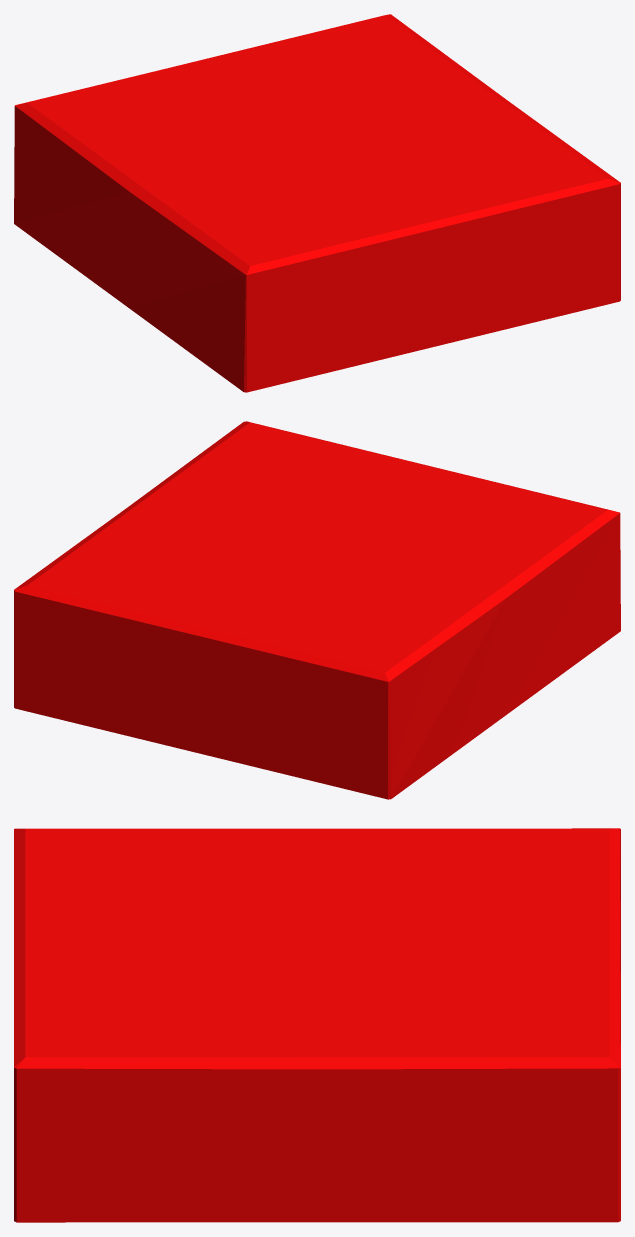
Rendered from Fp301_Ps_301_Shelf_6_PsDesk_301_2_12.obj.
3 renders of one model, top to bottom at view 1: azimuth 30°, elevation 25°; view 2: azimuth 150°, elevation 25°; view 3: azimuth 270°, elevation 25°, orthographic. The views are drawn at different scales.
Parts seen in each view (by area): view 1: PsDesk_301_2; view 2: PsDesk_301_2; view 3: PsDesk_301_2.
Boxes of the visible parts, x1,y1,x2,y2 form: PsDesk_301_2: (14, 14, 620, 392); PsDesk_301_2: (14, 421, 620, 799); PsDesk_301_2: (14, 828, 620, 1222).
Bounding box in the file's own units: 0.4084 × 0.1259 × 0.435.
